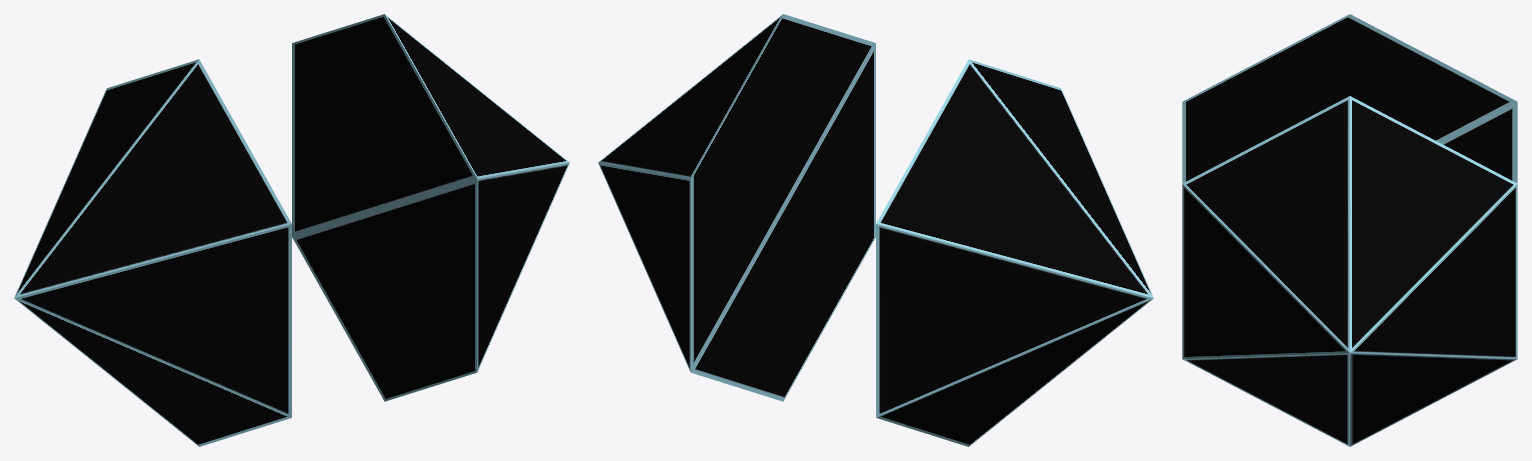
The model's file is Cryo-2.fbx.
The picture shows the model from 3 angles, left to right: view 1: azimuth 30°, elevation 25°; view 2: azimuth 150°, elevation 25°; view 3: azimuth 270°, elevation 25°; orthographic projection. The views are drawn at different scales.
Parts seen in each view (by area): view 1: pCone3; view 2: pCone3; view 3: pCone3.
Boxes of the visible parts, left/top/right/bottom form: pCone3: left=14, top=14, right=569, bottom=446; pCone3: left=598, top=14, right=1153, bottom=446; pCone3: left=1182, top=14, right=1517, bottom=446.
Size of the model in its own units: 3 by 2 by 1.73.
1 material, 1 textured.
